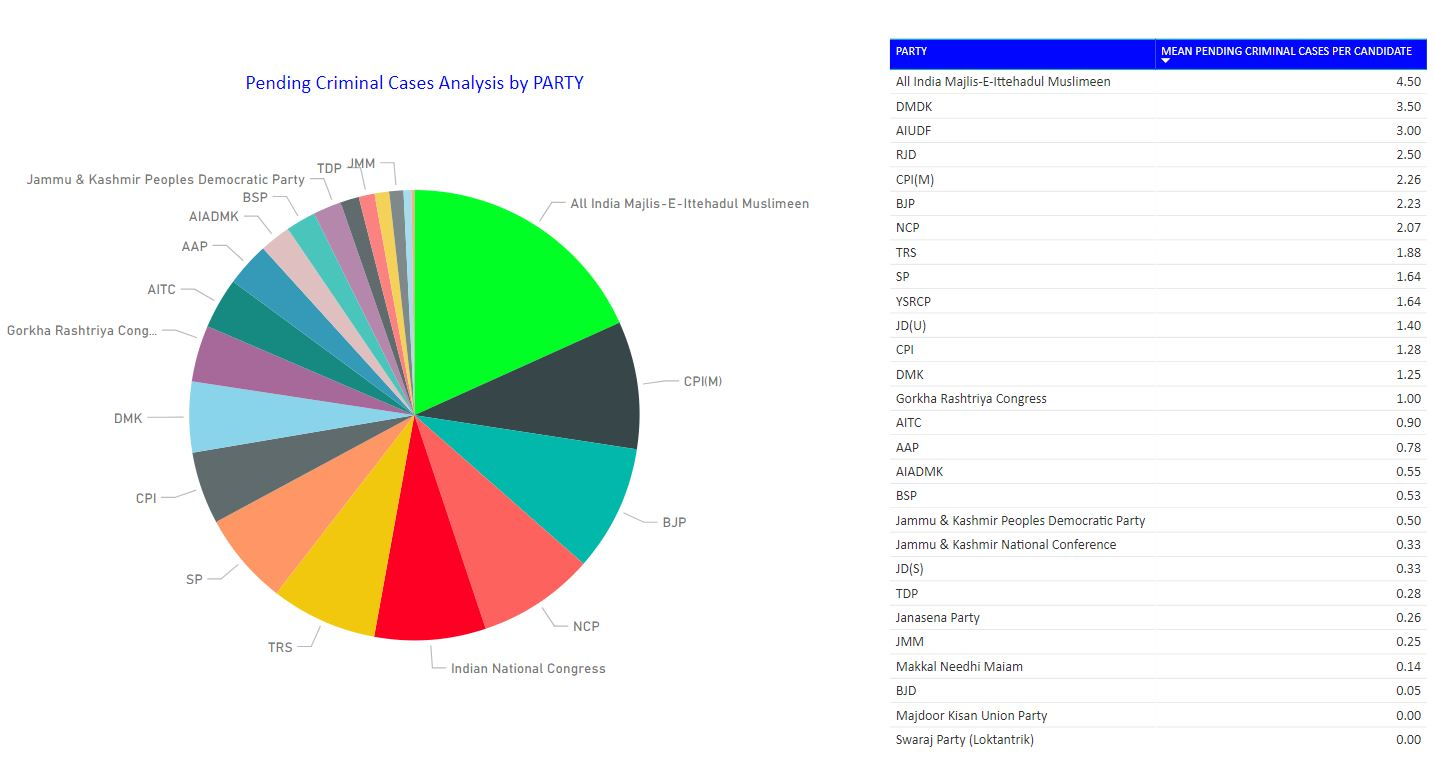

The page's visual inventory and layout, read from the dashboard file:
{"tool":"powerbi","page":{"name":"Pending Criminal Cases - Party Vice","canvas":[1280,720],"ordinal":1},"visuals":[{"type":"pieChart","title":"Pending Criminal Cases Analysis by PARTY","fields":{"Category":["PENDING_CRIMINAL_CASES_BY_PARTY.PARTY"],"Y":["Sum(PENDING_CRIMINAL_CASES_BY_PARTY.PENDING_CRIMINAL_CASES_PER_CANDIDATE)"]},"box":[0,84.5,718.3,575.1],"z":1},{"type":"tableEx","fields":{"Values":["PENDING_CRIMINAL_CASES_BY_PARTY.PARTY","Sum(PENDING_CRIMINAL_CASES_BY_PARTY.PENDING_CRIMINAL_CASES_PER_CANDIDATE)"]},"box":[763.1,53.5,476,626.9],"z":2}]}

Visuals, with their boxes on the page's 1280x720 design canvas (x1, y1, x2, y2). These are canvas units, not pixel positions in the 1434x766 screenshot, which may show the page scaled, cropped or inside an application window:
"Pending Criminal Cases Analysis by PARTY" pieChart: x1=0 y1=84 x2=718 y2=660
tableEx - PENDING_CRIMINAL_CASES_BY_PARTY.PARTY x Sum(PENDING_CRIMINAL_CASES_BY_PARTY.PENDING_CRIMINAL_CASES_PER_CANDIDATE): x1=763 y1=54 x2=1239 y2=680
